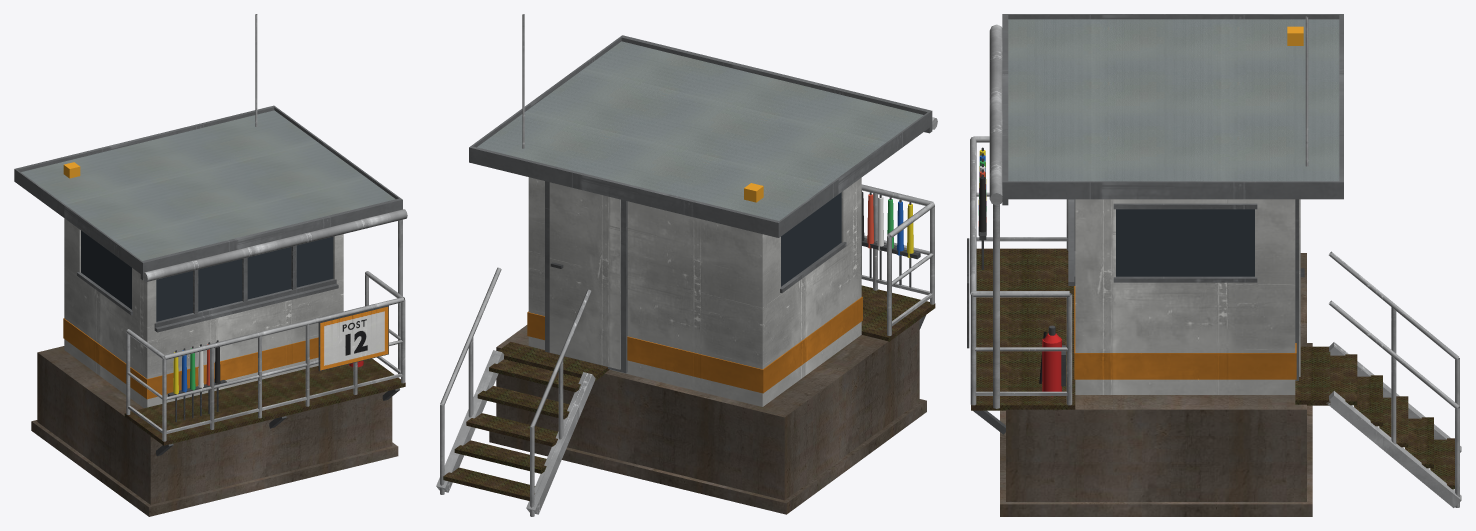
The model's file is marshal.glb.
3 renders of one model, left to right at view 1: azimuth 30°, elevation 25°; view 2: azimuth 150°, elevation 25°; view 3: azimuth 270°, elevation 25°, orthographic. The views are drawn at different scales.
Visible parts, largest first — view 1: marshal; view 2: marshal; view 3: marshal.
Boxes of the visible parts, x1,y1,x2,y2 form: marshal: (14,14,407,516); marshal: (436,14,937,516); marshal: (967,14,1461,516).
Size of the model in its own units: 3.44 by 4.6 by 4.27.
19 materials, 9 textured.
